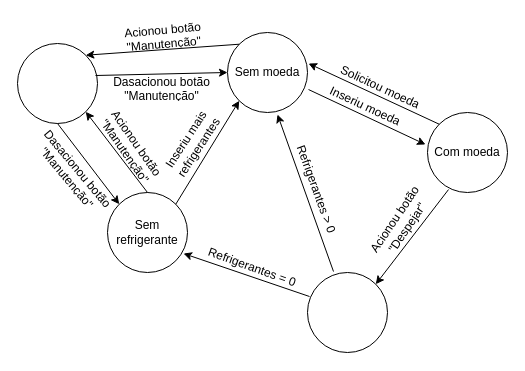
Image size: 525x371. Some labels were removed from this diagram. Each missing label, with the box of its shape:
Manutenção: (16, 42, 98, 124)
Venda: (306, 272, 388, 352)
